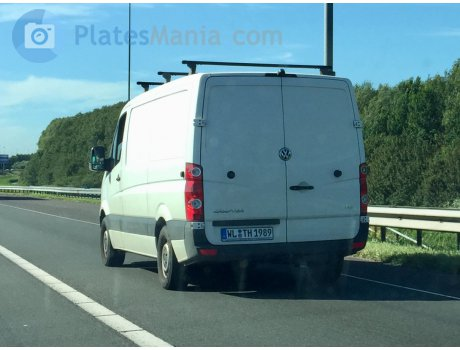License Plates: (229, 228, 269, 233)
